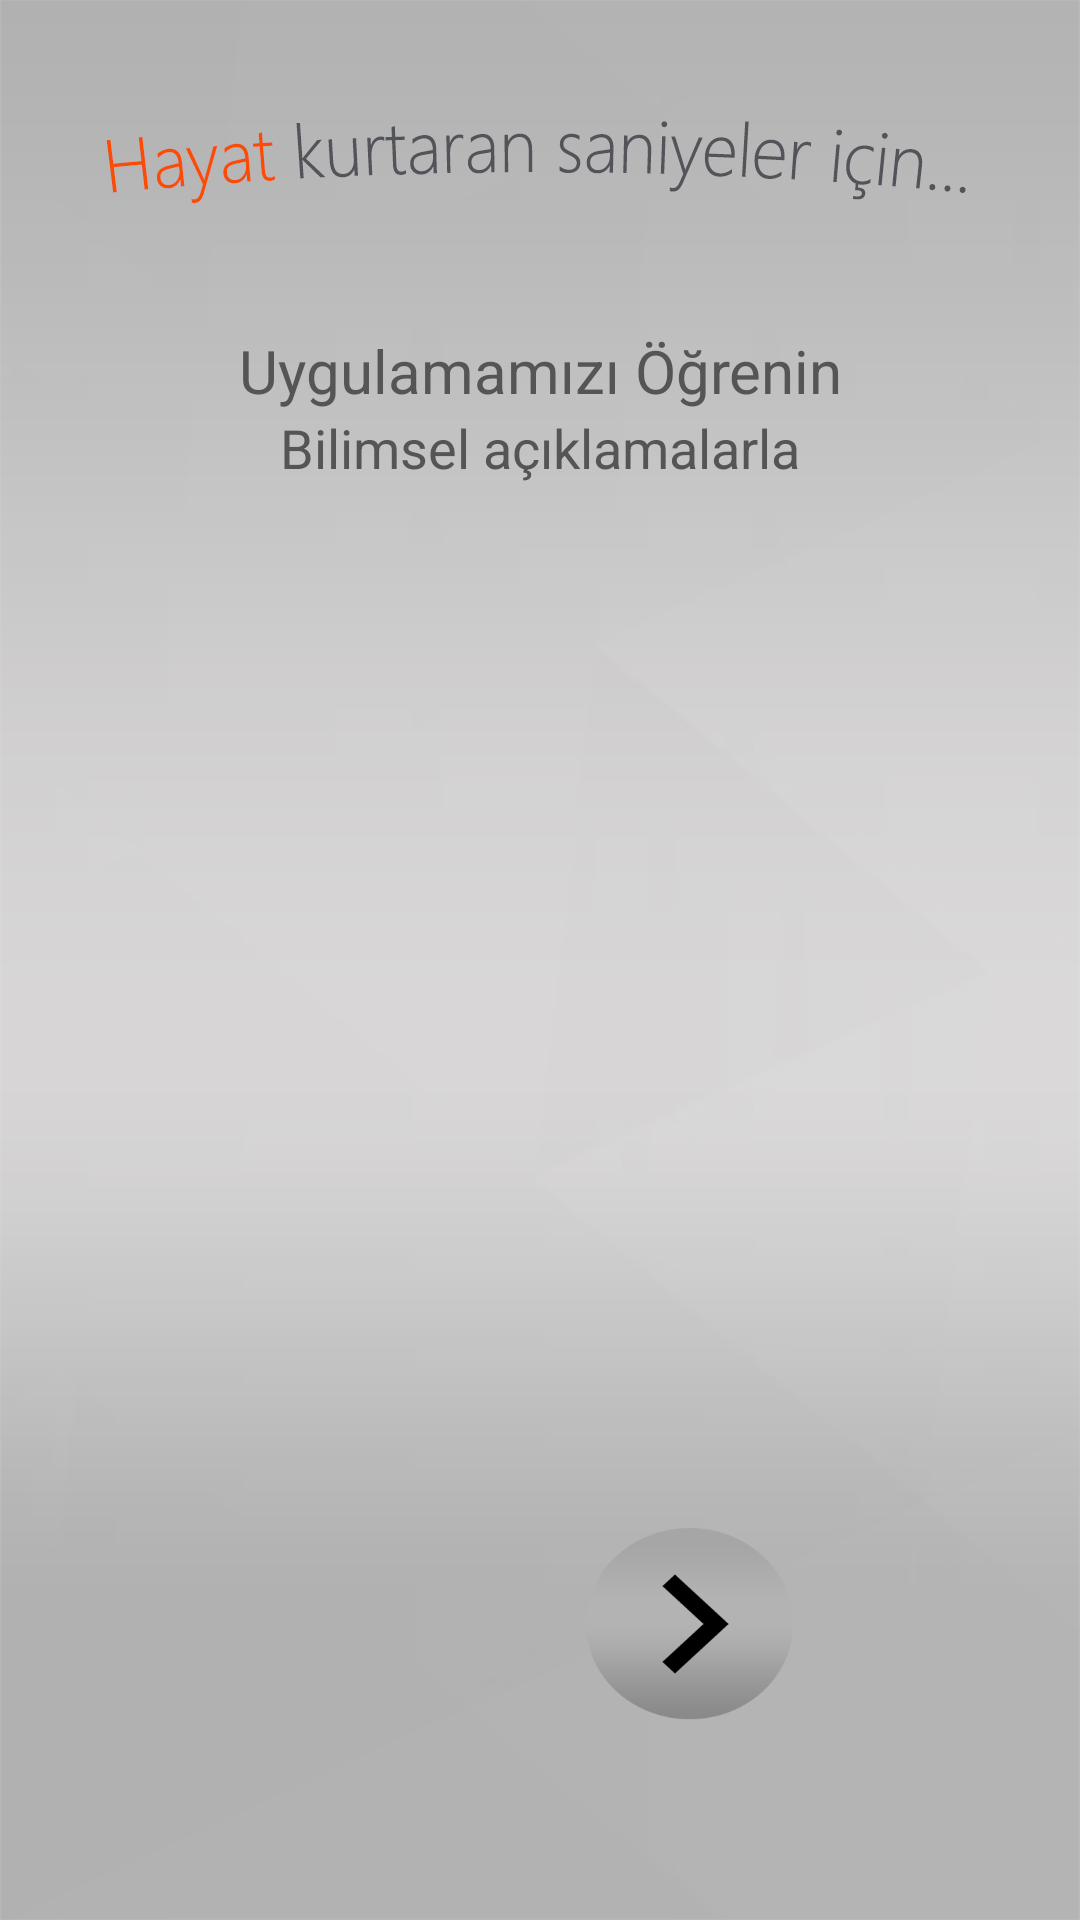

Where icons sit on this 1080x1920 app screen, as Rect(x1, y1, x2, y2):
ileri: Rect(604, 1574, 776, 1719)
